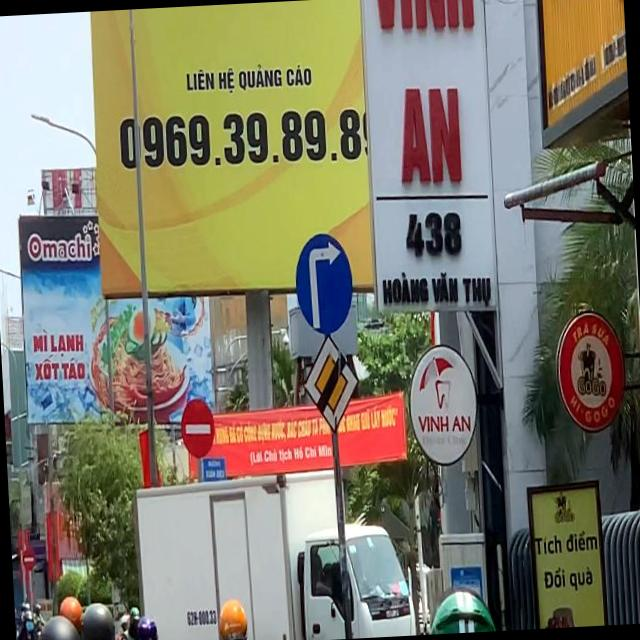P-102: (183, 395, 216, 460)
R-301d: (294, 230, 354, 334)
